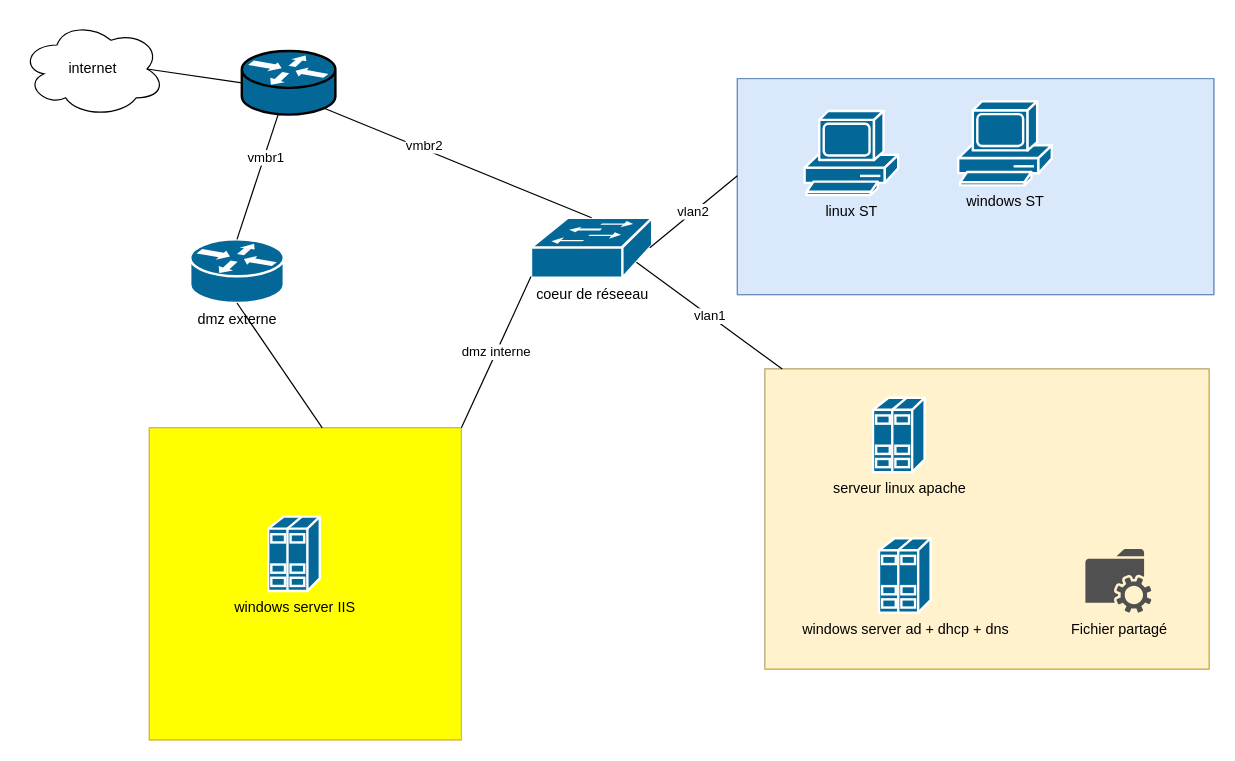
Some shapes in this 1235 by 761 pixel diagram are drawn without their labels. The shapes that lost their labels are listed below. From the top down, each one's box as (x1, y1, x2, y2) in pixels, then its label:
(240, 49, 336, 115): routeur de bordure +vpn
(736, 77, 1214, 295): zone station
(764, 368, 1209, 669): zone serveur
(148, 427, 461, 740): DMZ
